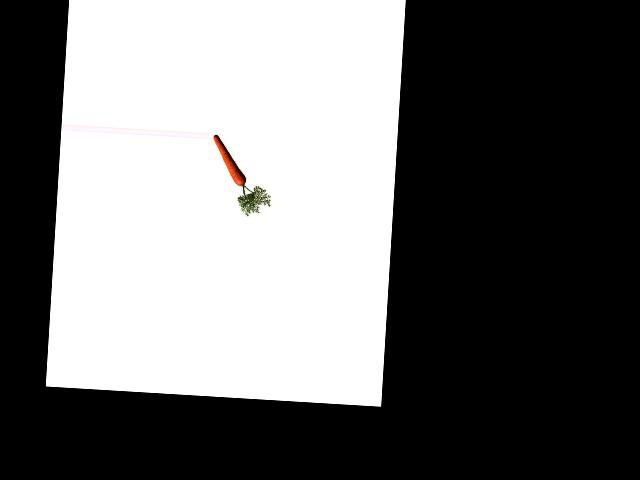carrot: (208, 132, 250, 191)
